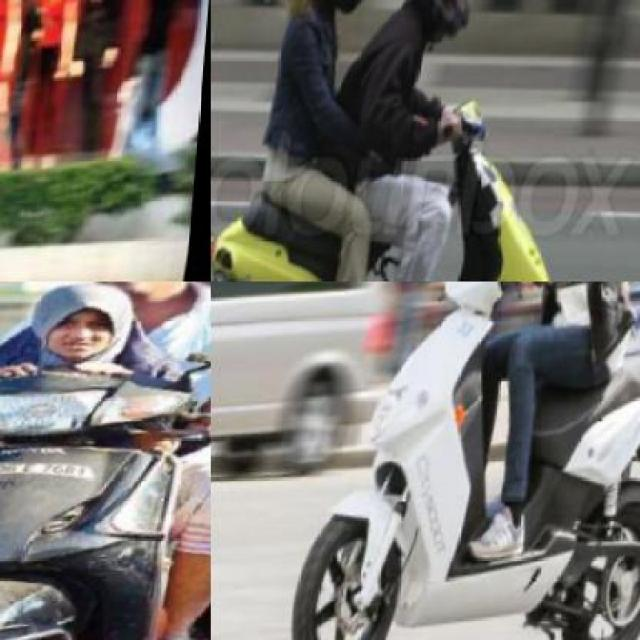With Helmet: (401, 0, 495, 55), (288, 0, 392, 34)
Without Helmet: (71, 282, 209, 320)
